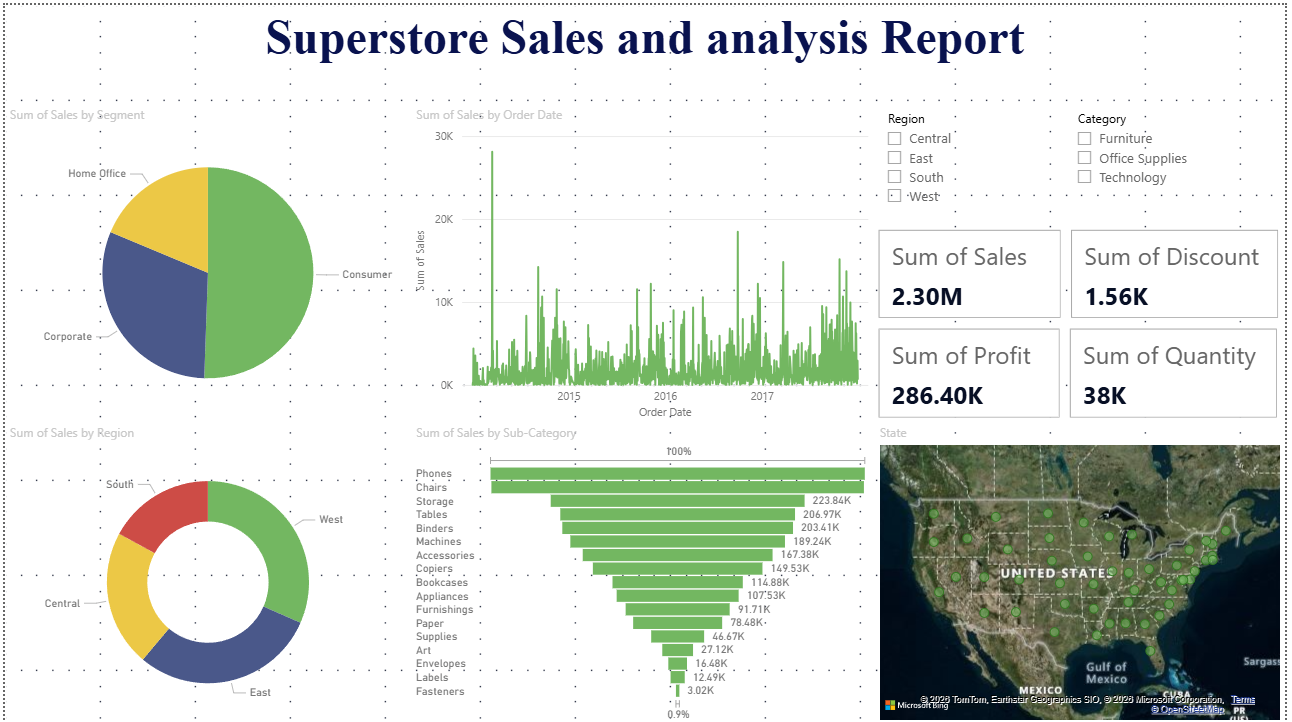

This screenshot's page, from the dashboard's own definition file:
{"tool":"powerbi","page":{"name":"Page 1","canvas":[1280,720],"ordinal":0},"visuals":[{"type":"donutChart","fields":{"Category":["Sample - Superstore.Region"],"Y":["Sum(Sample - Superstore.Sales)"]},"box":[0,418.8,406.2,301.2],"z":0},{"type":"funnel","fields":{"Category":["Sample - Superstore.Sub-Category"],"Y":["Sum(Sample - Superstore.Sales)"]},"box":[406.2,418.8,463.8,301.2],"z":1000},{"type":"map","fields":{"Category":["Sample - Superstore.State"]},"box":[870,418.8,410,301.2],"z":2000},{"type":"pieChart","fields":{"Category":["Sample - Superstore.Segment"],"Y":["Sum(Sample - Superstore.Sales)"]},"box":[0,101.2,406.2,317.5],"z":3000},{"type":"lineChart","fields":{"Category":["Sample - Superstore.Order Date"],"Y":["Sum(Sample - Superstore.Sales)"]},"box":[406.2,101.2,463.8,317.5],"z":4000},{"type":"cardVisual","fields":{"Data":["Sum(Sample - Superstore.Sales)"]},"box":[869.1,220.6,192.6,98.5],"z":5000},{"type":"cardVisual","fields":{"Data":["Sum(Sample - Superstore.Quantity)"]},"box":[1060.3,319.1,217.6,100],"z":6000},{"type":"cardVisual","fields":{"Data":["Sum(Sample - Superstore.Discount)"]},"box":[1061.8,220.6,217.6,98.5],"z":7000},{"type":"cardVisual","fields":{"Data":["Sum(Sample - Superstore.Profit)"]},"box":[869.1,319.1,191.2,100],"z":8000},{"type":"textbox","box":[0,0,1280,101.2],"z":9000},{"type":"slicer","fields":{"Values":["Sample - Superstore.Region"]},"box":[870.6,100,189.7,120.6],"z":9001},{"type":"slicer","fields":{"Values":["Sample - Superstore.Category"]},"box":[1060.3,100,219.1,120.6],"z":9003}]}

Visuals, with their boxes in screenshot pixels (x1, y1, x2, y2), scaled from the page's 1280x720 canvas onto the 1292x722 screenshot:
donutChart - Sample - Superstore.Region x Sum(Sample - Superstore.Sales): 0,420,410,721
funnel - Sample - Superstore.Sub-Category x Sum(Sample - Superstore.Sales): 410,420,878,721
map - Sample - Superstore.State: 878,420,1291,721
pieChart - Sample - Superstore.Segment x Sum(Sample - Superstore.Sales): 0,101,410,420
lineChart - Sample - Superstore.Order Date x Sum(Sample - Superstore.Sales): 410,101,878,420
cardVisual - Sum(Sample - Superstore.Sales): 877,221,1072,320
cardVisual - Sum(Sample - Superstore.Quantity): 1070,320,1290,420
cardVisual - Sum(Sample - Superstore.Discount): 1072,221,1291,320
cardVisual - Sum(Sample - Superstore.Profit): 877,320,1070,420
textbox: 0,0,1291,101
slicer - Sample - Superstore.Region: 879,100,1070,221
slicer - Sample - Superstore.Category: 1070,100,1291,221
